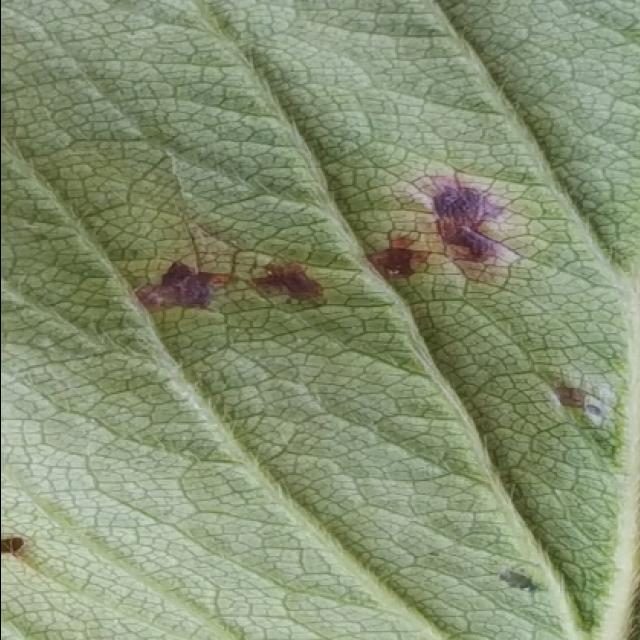Angular Leafspot: (120, 166, 618, 598)
